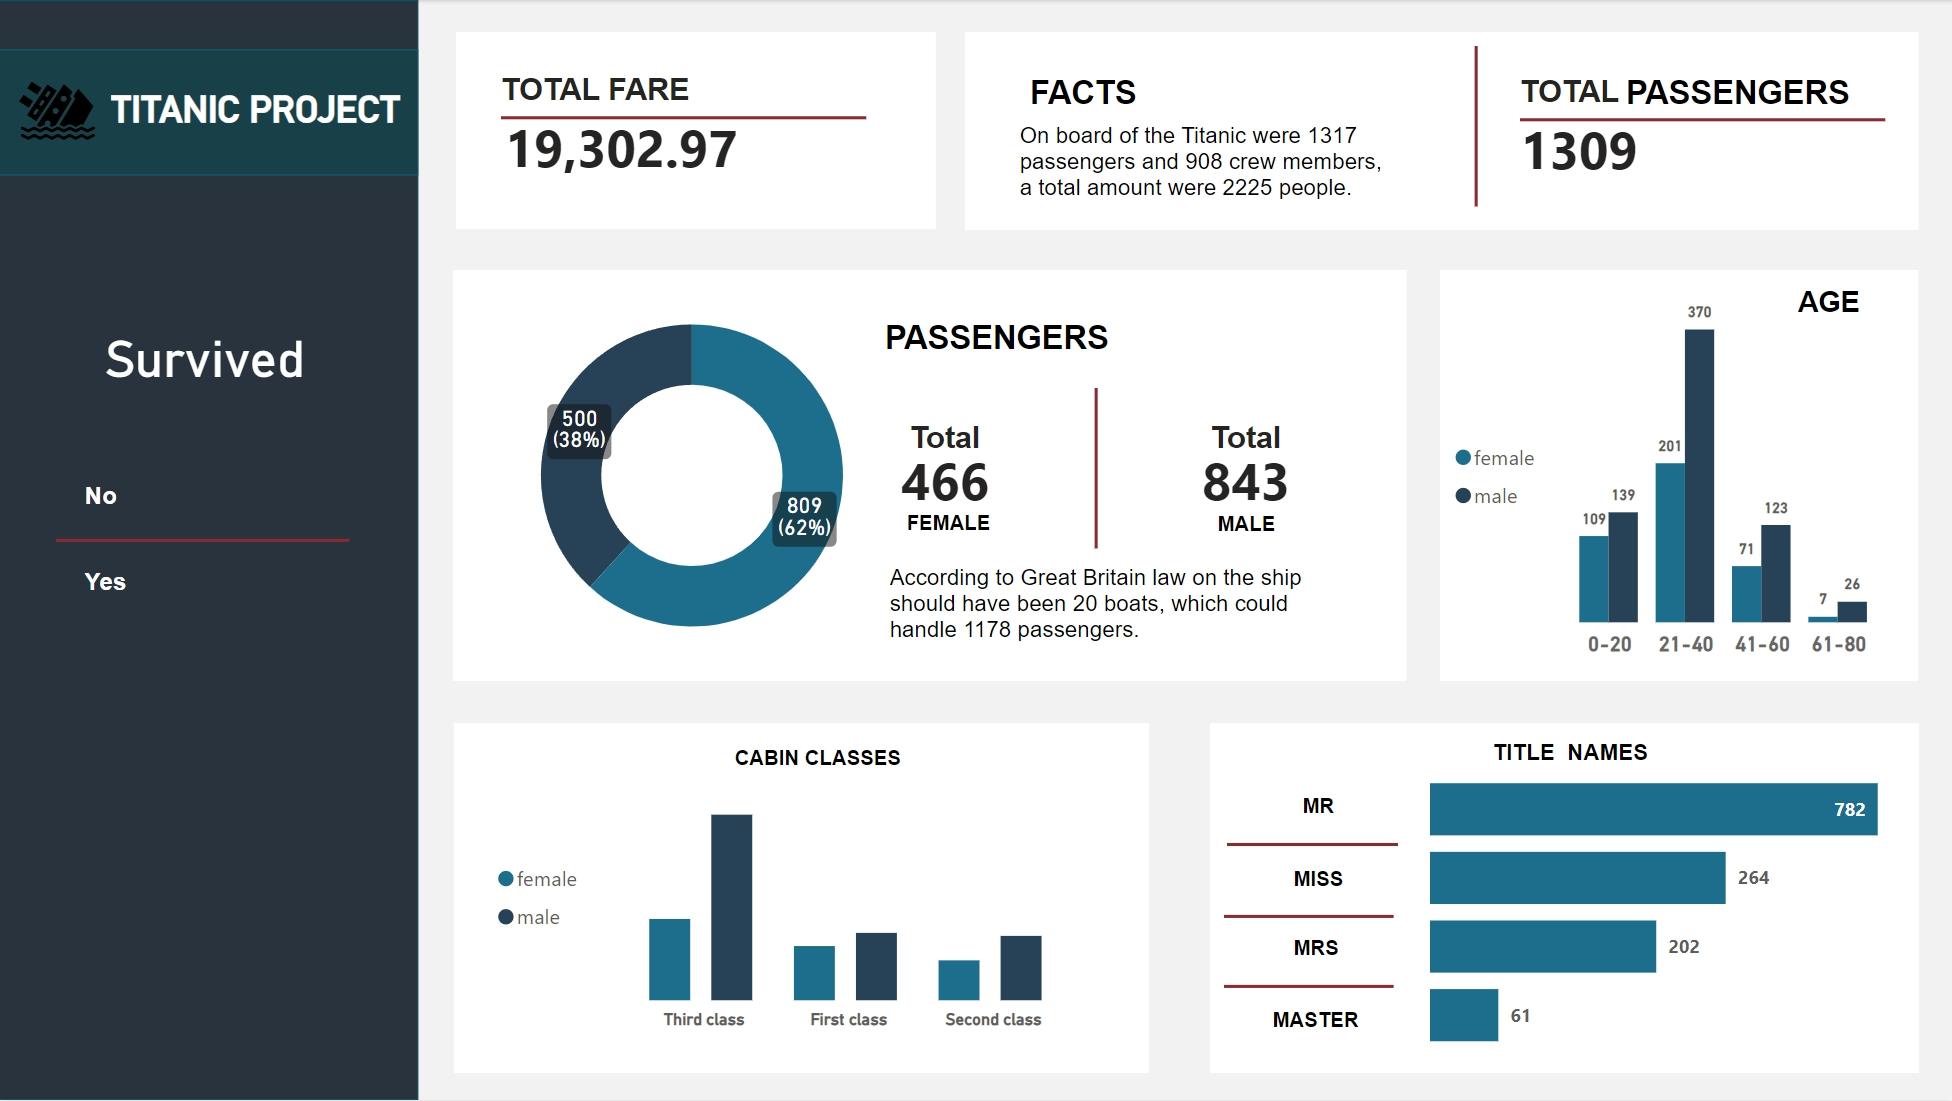

The page's visual inventory and layout, read from the dashboard file:
{"tool":"powerbi","page":{"name":"Page 2","canvas":[1280,720],"ordinal":0},"visuals":[{"type":"shape","box":[632.8,20.9,624.3,129.6],"z":1000},{"type":"shape","box":[299.8,21.2,314.4,129.1],"z":2000},{"type":"shape","box":[943.6,176.7,313.5,269],"z":3000},{"type":"shape","box":[297.8,176.5,624.5,269],"z":4000},{"type":"shape","box":[793.1,473.1,464,229],"z":5000},{"type":"shape","box":[298.4,473.1,454.8,229],"z":6000},{"type":"shape","box":[0,0,275.3,720.3],"z":7000},{"type":"shape","box":[0,32.4,275.3,82.9],"z":8000},{"type":"advancedSlicerVisual","fields":{"Values":["Passengers_titanik.if_survived"]},"box":[38.7,296.1,191.7,114.9],"z":9000},{"type":"shape","box":[38.1,347.7,192.3,12.3],"z":10000},{"type":"textbox","box":[68.7,53.1,211.8,40.8],"z":11000},{"type":"image","box":[2.6,46.6,71.9,52.5],"z":12000},{"type":"textbox","box":[64.8,210.5,152.2,54.4],"z":13000},{"type":"clusteredColumnChart","fields":{"Category":["Cabine_info.Column class"],"Y":["Passengers_titanik.personal_id"],"Series":["Passengers_titanik.gender"]},"box":[321.3,492.8,409,187.8],"z":15000},{"type":"textbox","box":[477.1,481.6,127.6,27.5],"z":18000},{"type":"barChart","fields":{"Y":["Passengers_titanik.personal_id"],"Category":["Passengers_titanik.Column"]},"box":[937.1,504.5,293.2,178.7],"z":20000},{"type":"shape","box":[804.3,546.4,111.9,12.4],"z":21000},{"type":"shape","box":[802.6,593.7,111.4,12.3],"z":22000},{"type":"shape","box":[802.6,639.6,111.4,12.3],"z":23000},{"type":"textbox","box":[848.8,513.2,55,28.1],"z":24000},{"type":"textbox","box":[842.9,561,127.6,28.1],"z":25000},{"type":"textbox","box":[842.9,606.1,127.6,27.5],"z":26000},{"type":"textbox","box":[829.1,653.3,127.6,27.5],"z":27000},{"type":"donutChart","fields":{"Y":["Passengers_titanik.personal_id"],"Category":["Passengers_titanik.if_survived"]},"box":[224.1,181,459.3,259.8],"z":28000},{"type":"card","title":"Total","fields":{"Values":["Passengers_titanik.personal_id"]},"box":[556.4,270.4,127,71.9],"z":29000},{"type":"card","title":"Total","fields":{"Values":["Passengers_titanik.personal_id"]},"box":[753.5,270.2,126.9,72.1],"z":30000},{"type":"textbox","box":[589.8,327.9,85.1,28.1],"z":31000},{"type":"textbox","box":[792.9,328.4,62,28],"z":32000},{"type":"textbox","box":[575.4,203.9,183.2,39.7],"z":33000},{"type":"clusteredColumnChart","fields":{"Category":["Passengers_titanik.variations"],"Y":["Passengers_titanik.personal_id"],"Series":["Passengers_titanik.gender"]},"box":[952.8,191.1,291.9,240.2],"z":34000},{"type":"textbox","box":[1172.7,181.9,83.8,39.3],"z":35000},{"type":"card","title":"TOTAL FARE","fields":{"Values":["Ticket_info.fare"]},"box":[329.4,42.8,157.2,91.6],"z":36000},{"type":"shape","box":[329.4,68.1,239.4,18],"z":37000},{"type":"card","title":"TOTAL","fields":{"Values":["Passengers_titanik.personal_id"]},"box":[996.3,44.1,77.2,91.6],"z":38000},{"type":"shape","box":[996.3,69.4,239.4,18],"z":39000},{"type":"textbox","box":[1060.4,44.1,183.2,39.7],"z":40000},{"type":"textbox","box":[663.3,74.3,273.4,61.6],"z":41000},{"type":"shape","box":[945.1,30.4,44.7,105.3],"z":42000},{"type":"textbox","box":[669.9,43.9,183.1,40.2],"z":43000},{"type":"textbox","box":[578.3,364,284.8,61.3],"z":44000},{"type":"shape","box":[696.5,253.6,44.7,105.3],"z":45000},{"type":"textbox","box":[973.1,478.4,122.4,30.8],"z":48000}]}

Visuals, with their boxes in screenshot pixels (x1, y1, x2, y2), scaled from the page's 1280x720 canvas onto the 1952x1101 screenshot:
shape: 965 32 1917 230
shape: 457 32 937 230
shape: 1439 270 1917 682
shape: 454 270 1407 681
shape: 1209 723 1917 1074
shape: 455 723 1149 1074
shape: 0 0 420 1100
shape: 0 50 420 176
advancedSlicerVisual - Passengers_titanik.if_survived: 59 453 351 628
shape: 58 532 351 550
textbox: 105 81 428 144
image: 4 71 114 152
textbox: 99 322 331 405
clusteredColumnChart - Cabine_info.Column class x Passengers_titanik.personal_id: 490 754 1114 1041
textbox: 728 736 922 778
barChart - Passengers_titanik.personal_id x Passengers_titanik.Column: 1429 771 1876 1045
shape: 1227 836 1397 854
shape: 1224 908 1394 927
shape: 1224 978 1394 997
textbox: 1294 785 1378 828
textbox: 1285 858 1480 901
textbox: 1285 927 1480 969
textbox: 1264 999 1459 1041
donutChart - Passengers_titanik.personal_id x Passengers_titanik.if_survived: 342 277 1042 674
"Total" card: 849 413 1042 523
"Total" card: 1149 413 1343 523
textbox: 899 501 1029 544
textbox: 1209 502 1304 545
textbox: 877 312 1157 373
clusteredColumnChart - Passengers_titanik.variations x Passengers_titanik.personal_id: 1453 292 1898 660
textbox: 1788 278 1916 338
"TOTAL FARE" card: 502 65 742 206
shape: 502 104 867 132
"TOTAL" card: 1519 67 1637 208
shape: 1519 106 1884 134
textbox: 1617 67 1896 128
textbox: 1012 114 1428 208
shape: 1441 46 1509 208
textbox: 1022 67 1301 129
textbox: 882 557 1316 650
shape: 1062 388 1130 549
textbox: 1484 732 1671 779
